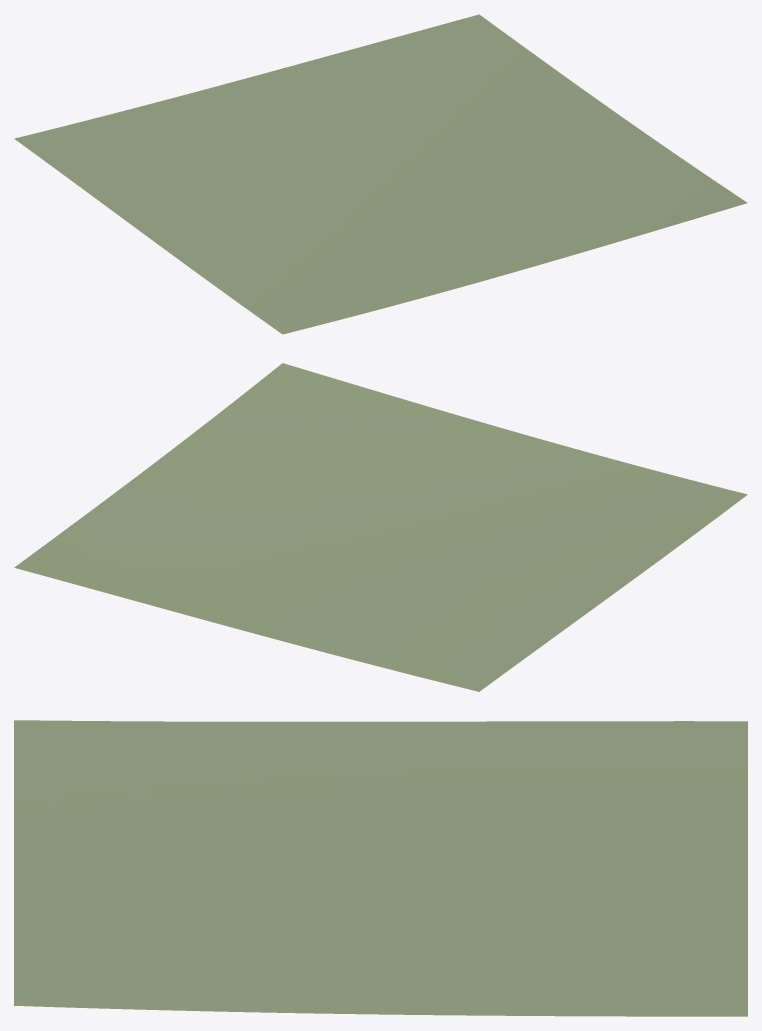
File: expanse-5-20.glb
3 views of the same model, one above another, from view 1: azimuth 30°, elevation 25°; view 2: azimuth 150°, elevation 25°; view 3: azimuth 270°, elevation 25° (orthographic). The views are drawn at different scales.
Parts seen in each view (by area): view 1: expanse-5-20; view 2: expanse-5-20; view 3: expanse-5-20.
Part boxes in pixels (box(x1,y1,x2,y2)): expanse-5-20: box(14, 14, 747, 334); expanse-5-20: box(14, 363, 747, 691); expanse-5-20: box(14, 720, 747, 1016).
Size of the model in its own units: 256 by 10.07 by 256.
